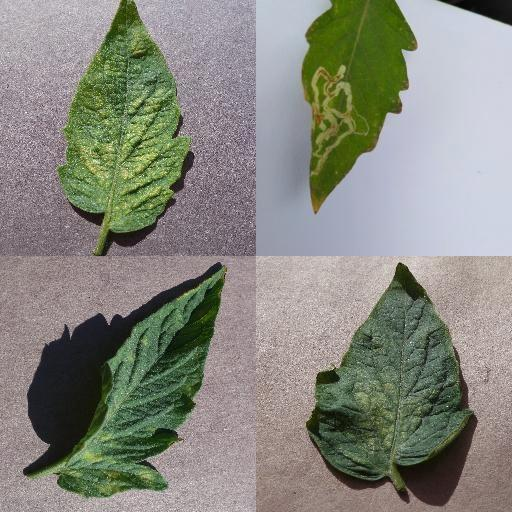Leaf Miner: (299, 0, 416, 216)
Leaf Mold: (58, 265, 227, 499)
Spider Mites: (305, 261, 475, 483), (59, 0, 190, 233)
